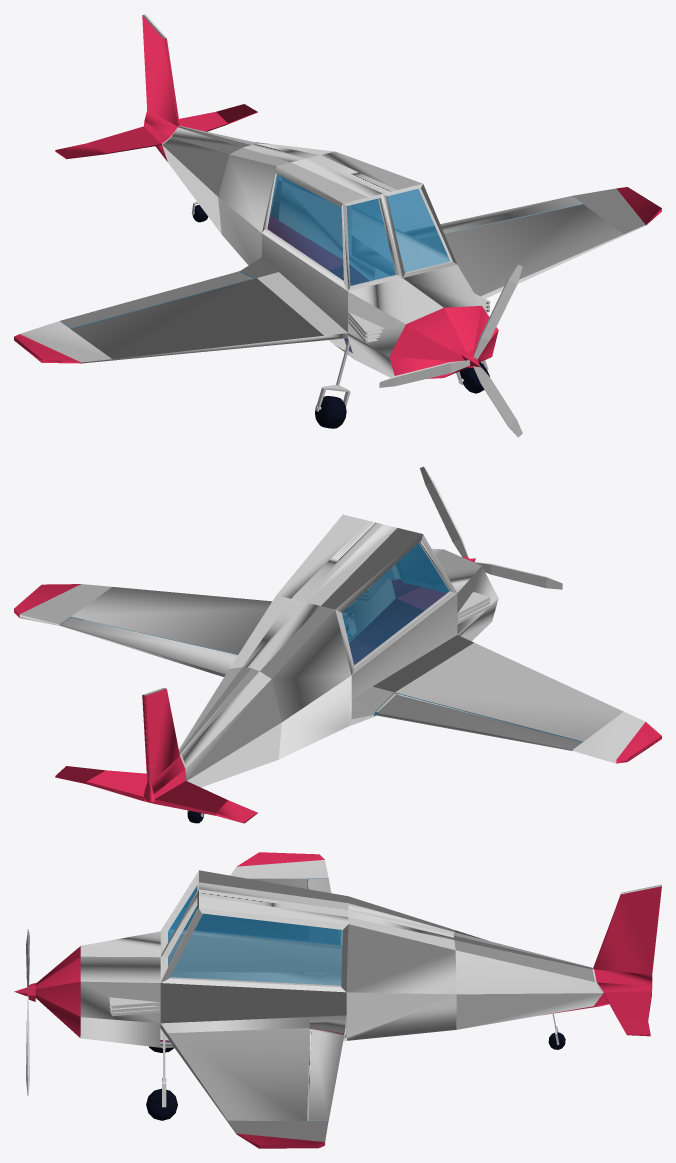
The picture shows the model from 3 angles, top to bottom: view 1: azimuth 30°, elevation 25°; view 2: azimuth 150°, elevation 25°; view 3: azimuth 270°, elevation 25°; orthographic projection. The views are drawn at different scales.
Parts seen in each view (by area): view 1: Cube_1_3, Cube_3, Propeller_1, Wheel_4; view 2: Cube_1_3, Cube_3, Propeller_1; view 3: Cube_1_3, Propeller_1, Wheel_2.
Boxes of the visible parts, x1,y1,x2,y2 form: Cube_1_3: (14, 14, 661, 378); Cube_3: (67, 174, 395, 352); Propeller_1: (379, 264, 522, 437); Wheel_4: (315, 396, 346, 428); Cube_1_3: (14, 514, 661, 823); Cube_3: (342, 543, 581, 746); Propeller_1: (419, 466, 562, 589); Cube_1_3: (35, 852, 661, 1148); Propeller_1: (14, 929, 35, 1095); Wheel_2: (146, 1088, 177, 1120).
Size of the model in its own units: 869 by 277 by 811.
